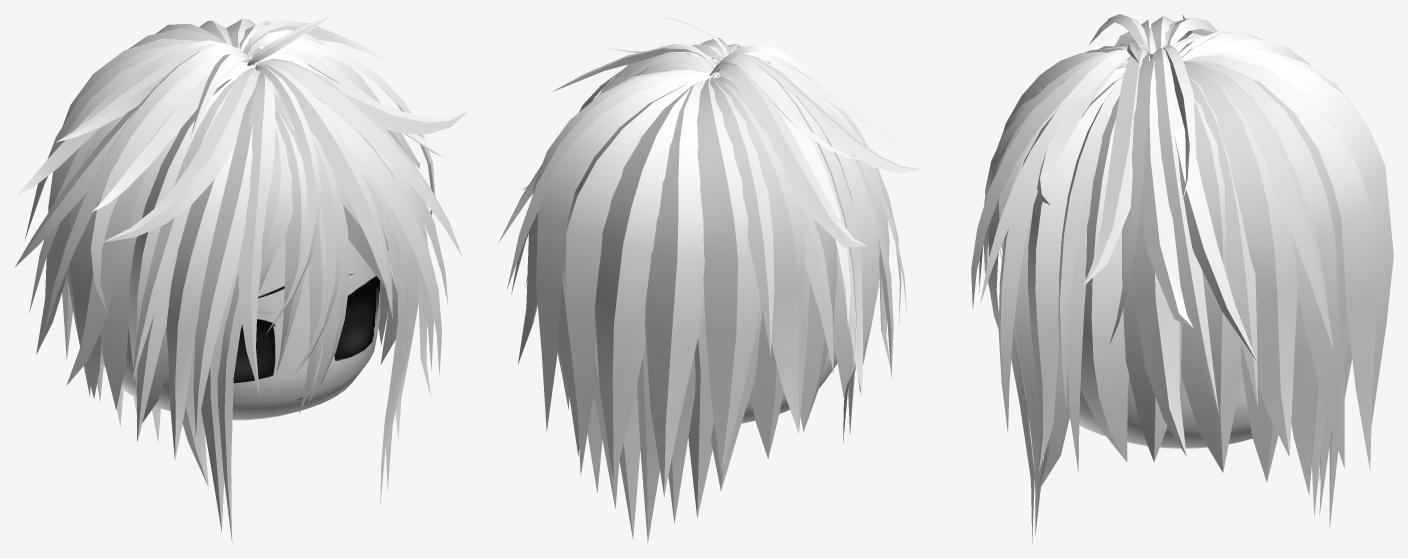
File: 15-Vkei-Moe-Boy-Face-Hair-137700402637392.glb
The picture shows the model from 3 angles, left to right: view 1: azimuth 30°, elevation 25°; view 2: azimuth 150°, elevation 25°; view 3: azimuth 270°, elevation 25°; orthographic projection. The views are drawn at different scales.
Parts seen in each view (by area): view 1: Vkei-Moe-Boy-Face-Hair; view 2: Vkei-Moe-Boy-Face-Hair; view 3: Vkei-Moe-Boy-Face-Hair.
Part boxes in pixels (box(x1,y1,x2,y2)): Vkei-Moe-Boy-Face-Hair: box(15, 14, 467, 542); Vkei-Moe-Boy-Face-Hair: box(498, 14, 941, 543); Vkei-Moe-Boy-Face-Hair: box(971, 14, 1393, 542).
Bounding box in the file's own units: 1.86 × 2.19 × 1.67.
1 material, 1 textured.
